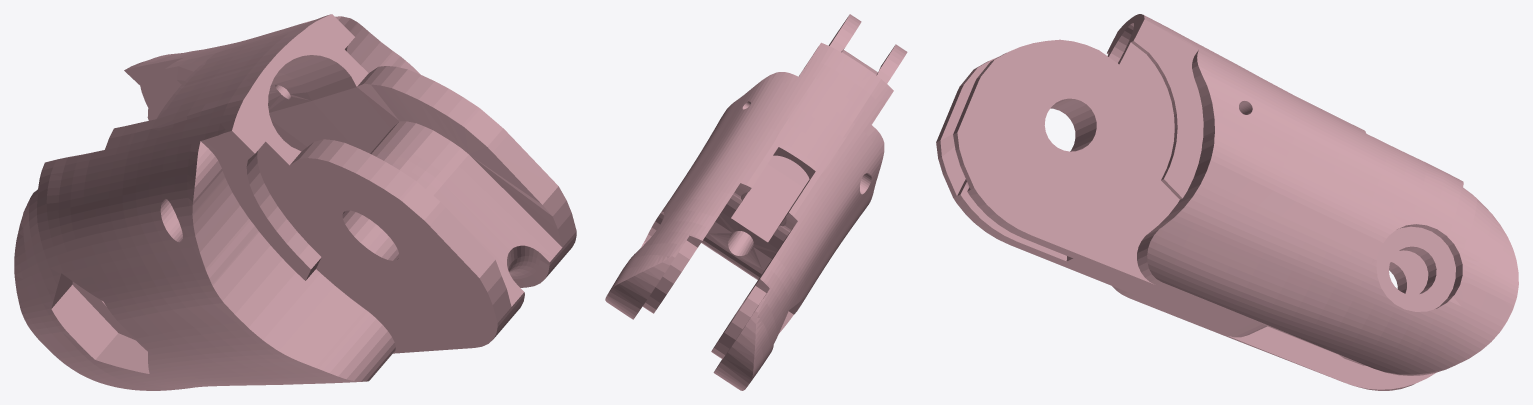
Rendered from i02_rightHand_majeureMid_visual.obj.
3 renders of one model, left to right at view 1: azimuth 30°, elevation 25°; view 2: azimuth 150°, elevation 25°; view 3: azimuth 270°, elevation 25°, orthographic. The views are drawn at different scales.
Parts seen in each view (by area): view 1: i02_rightHand_majeureMid_visual.001; view 2: i02_rightHand_majeureMid_visual.001; view 3: i02_rightHand_majeureMid_visual.001.
Part boxes in pixels (<box>): i02_rightHand_majeureMid_visual.001: <box>14,14,576,390</box>; i02_rightHand_majeureMid_visual.001: <box>605,14,907,390</box>; i02_rightHand_majeureMid_visual.001: <box>936,14,1518,390</box>.
Size of the model in its own units: 0.1774 by 0.2775 by 0.393.
